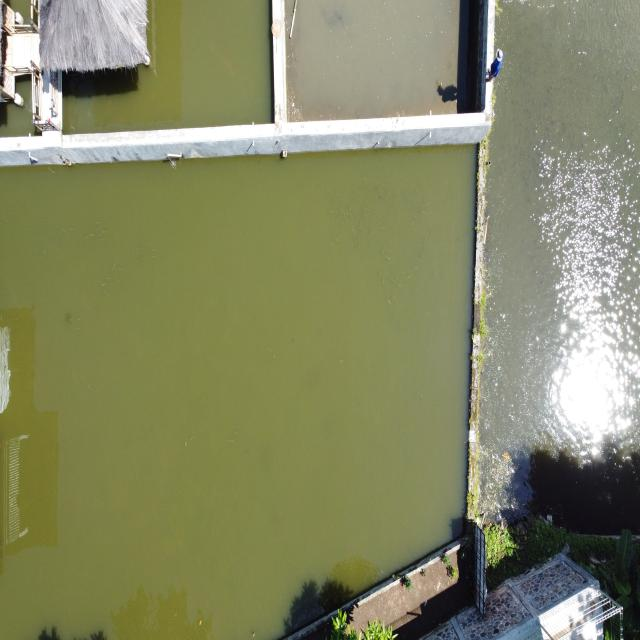Ponds: (1, 136, 488, 640), (273, 1, 495, 134)
